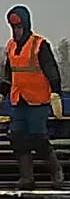gloves: (49, 91, 63, 119)
helmet: (7, 12, 22, 27)
vest: (5, 35, 52, 106)
